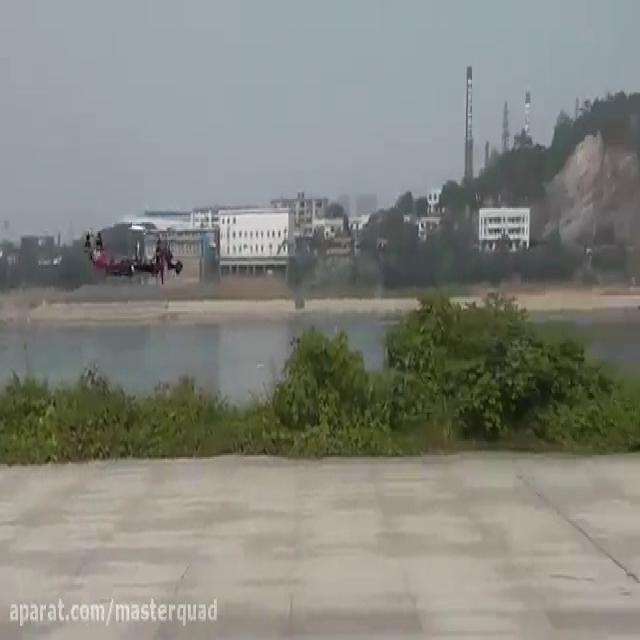drone: (80, 224, 185, 286)
